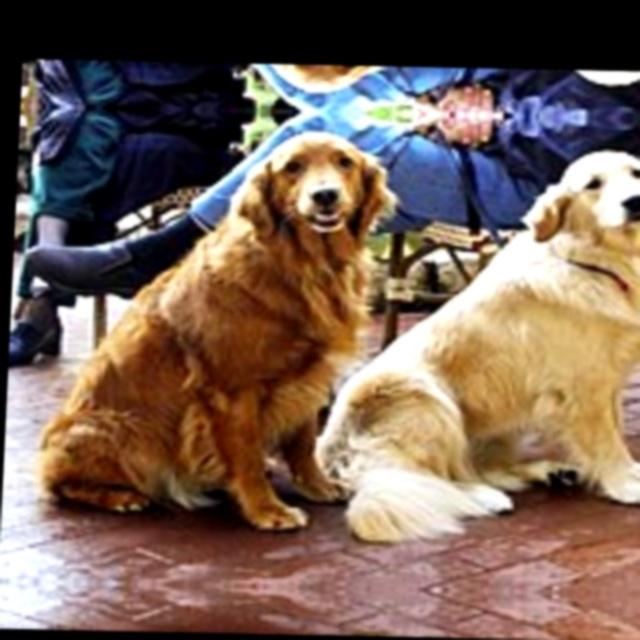dog: (39, 119, 406, 588), (381, 136, 640, 544), (38, 582, 384, 636), (62, 60, 410, 101), (402, 66, 640, 95)
